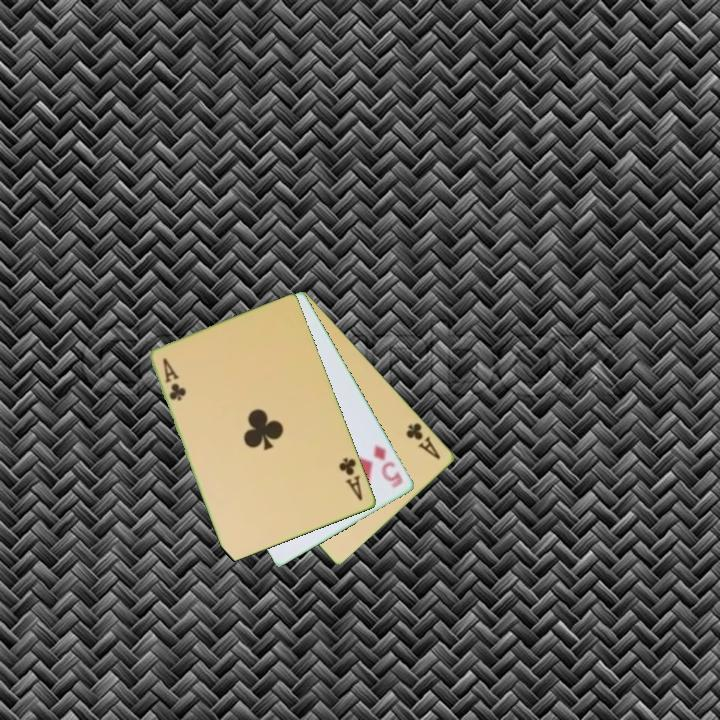5d: (371, 441, 406, 491)
Ac: (403, 419, 444, 462), (335, 454, 366, 504), (160, 354, 189, 404)
